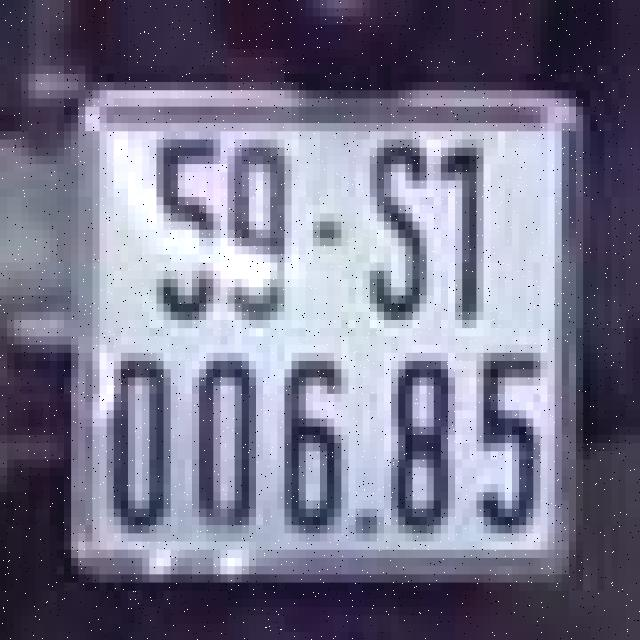0: (92, 336, 185, 550), (196, 340, 260, 538)
1: (444, 131, 494, 328)
5: (135, 123, 213, 328), (477, 344, 548, 542)
6: (278, 344, 356, 550)
8: (388, 349, 466, 537)
9: (224, 136, 302, 332)
S: (362, 135, 433, 324)
